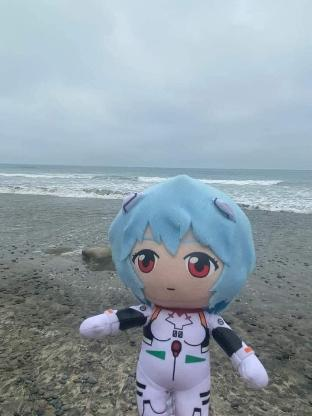rei-plush: (68, 166, 270, 416)
